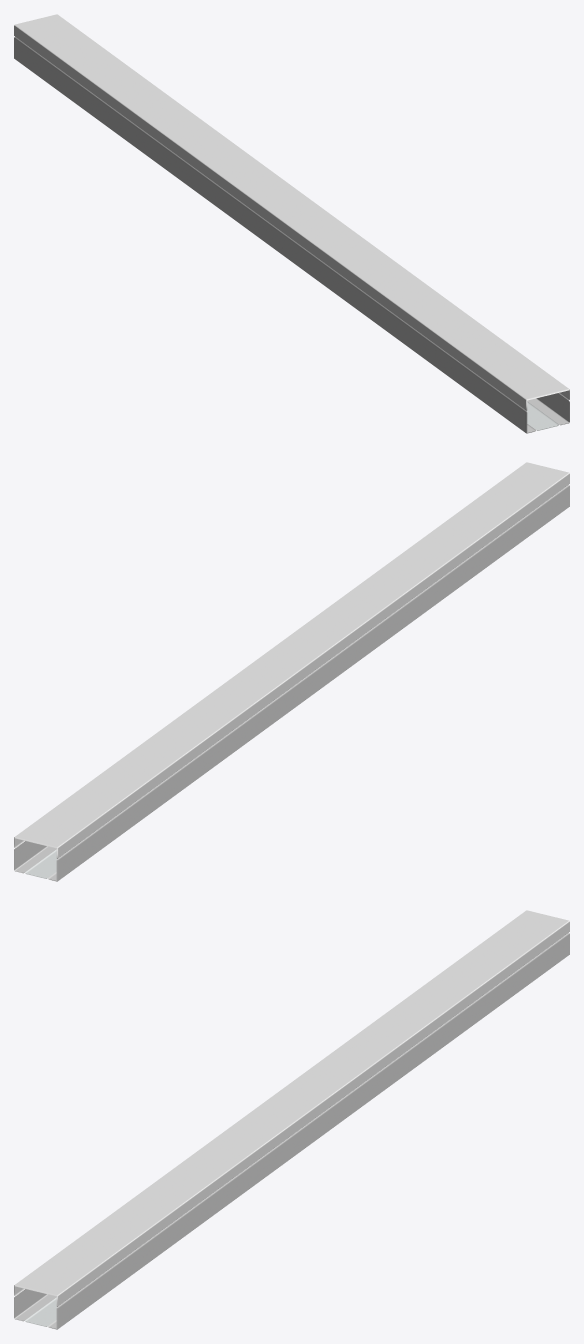
Rendered from SM_LightSupport_Middle_01a.fbx.
3 renders of one model, top to bottom at view 1: azimuth 30°, elevation 25°; view 2: azimuth 150°, elevation 25°; view 3: azimuth 330°, elevation 25°, orthographic.
Visible parts, largest first — view 1: SM_LightSupport_Middle_01a; view 2: SM_LightSupport_Middle_01a; view 3: SM_LightSupport_Middle_01a.
Boxes of the visible parts, box(x1,y1,x2,y2) form: SM_LightSupport_Middle_01a: box(14, 14, 569, 433); SM_LightSupport_Middle_01a: box(14, 462, 569, 881); SM_LightSupport_Middle_01a: box(14, 910, 569, 1329).
Size of the model in its own units: 20.02 by 400 by 14.98.
1 material, 1 textured.
